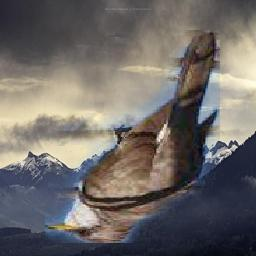Cuckoo: (46, 31, 221, 244)
